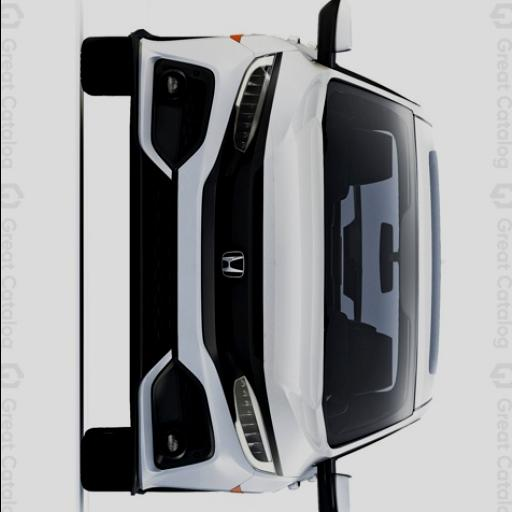hatchback: (83, 0, 441, 512)
